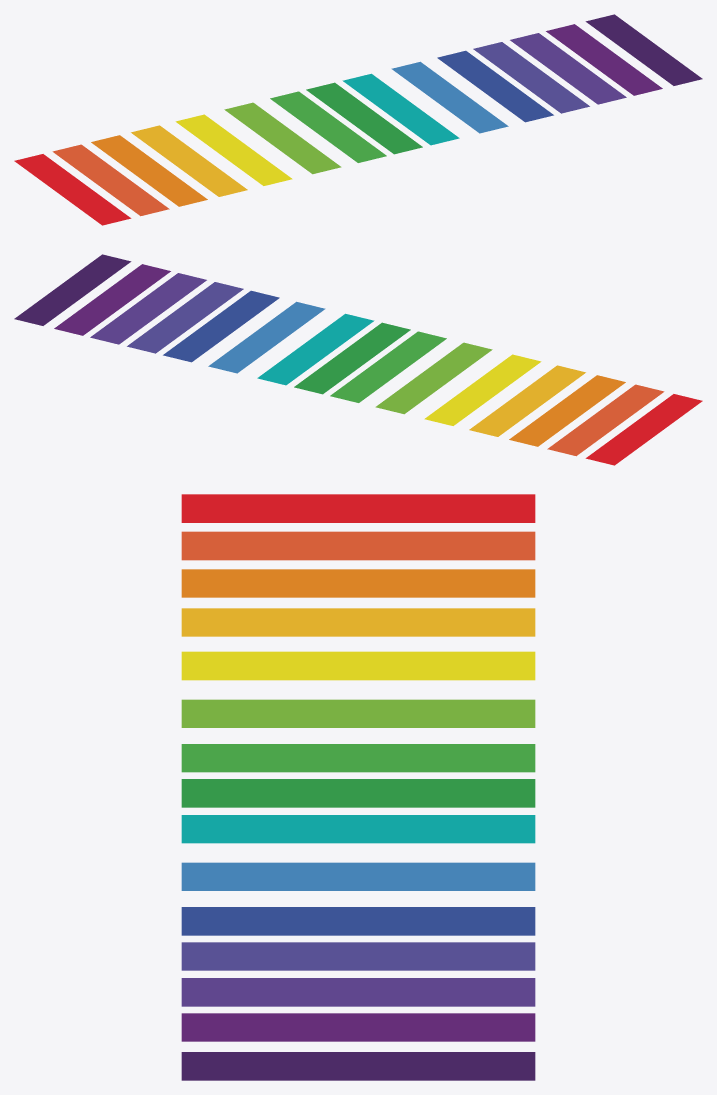
File: ph color papers.fbx
3 views of the same model, one above another, from view 1: azimuth 30°, elevation 25°; view 2: azimuth 150°, elevation 25°; view 3: azimuth 270°, elevation 25° (orthographic). The views are drawn at different scales.
Parts seen in each view (by area): view 1: ph_color_paper1, ph_color_paper6, ph_color_paper11, ph_color_paper12, ph_color_paper15, ph_color_paper2, ph_color_paper3, ph_color_paper8, ph_color_paper13, ph_color_paper4, ph_color_paper5, ph_color_paper7 (+3 smaller); view 2: ph_color_paper1, ph_color_paper6, ph_color_paper11, ph_color_paper12, ph_color_paper15, ph_color_paper2, ph_color_paper3, ph_color_paper8, ph_color_paper13, ph_color_paper4, ph_color_paper5, ph_color_paper7 (+3 smaller); view 3: ph_color_paper2, ph_color_paper5, ph_color_paper1, ph_color_paper3, ph_color_paper4, ph_color_paper8, ph_color_paper9, ph_color_paper10, ph_color_paper13, ph_color_paper14, ph_color_paper15, ph_color_paper6 (+3 smaller).
Boxes of the visible parts, bbox=[...] form: ph_color_paper1: bbox=[14, 154, 131, 225]; ph_color_paper6: bbox=[224, 102, 341, 174]; ph_color_paper11: bbox=[391, 61, 508, 133]; ph_color_paper12: bbox=[342, 73, 459, 145]; ph_color_paper15: bbox=[585, 14, 702, 85]; ph_color_paper2: bbox=[52, 144, 169, 216]; ph_color_paper3: bbox=[91, 135, 207, 206]; ph_color_paper8: bbox=[306, 82, 422, 154]; ph_color_paper13: bbox=[546, 24, 662, 95]; ph_color_paper4: bbox=[131, 125, 247, 196]; ph_color_paper5: bbox=[175, 114, 292, 185]; ph_color_paper7: bbox=[270, 91, 386, 162]; ph_color_paper1: bbox=[585, 394, 702, 465]; ph_color_paper6: bbox=[375, 342, 492, 414]; ph_color_paper11: bbox=[208, 301, 325, 373]; ph_color_paper12: bbox=[257, 313, 374, 385]; ph_color_paper15: bbox=[14, 254, 131, 325]; ph_color_paper2: bbox=[547, 384, 664, 456]; ph_color_paper3: bbox=[509, 375, 625, 446]; ph_color_paper8: bbox=[294, 322, 410, 394]; ph_color_paper13: bbox=[54, 264, 170, 335]; ph_color_paper4: bbox=[469, 365, 585, 436]; ph_color_paper5: bbox=[424, 354, 541, 425]; ph_color_paper7: bbox=[330, 331, 446, 402]; ph_color_paper2: bbox=[181, 531, 535, 560]; ph_color_paper5: bbox=[181, 651, 535, 680]; ph_color_paper1: bbox=[181, 494, 535, 522]; ph_color_paper3: bbox=[181, 569, 535, 597]; ph_color_paper4: bbox=[181, 608, 535, 636]; ph_color_paper8: bbox=[181, 779, 535, 807]; ph_color_paper9: bbox=[181, 907, 535, 935]; ph_color_paper10: bbox=[181, 942, 535, 970]; ph_color_paper13: bbox=[181, 1013, 535, 1041]; ph_color_paper14: bbox=[181, 978, 535, 1006]; ph_color_paper15: bbox=[181, 1052, 535, 1080]; ph_color_paper6: bbox=[181, 699, 535, 727].
Bounding box in the file's own units: 139 × 4.44e-16 × 35.44.
1 material, 1 textured.
